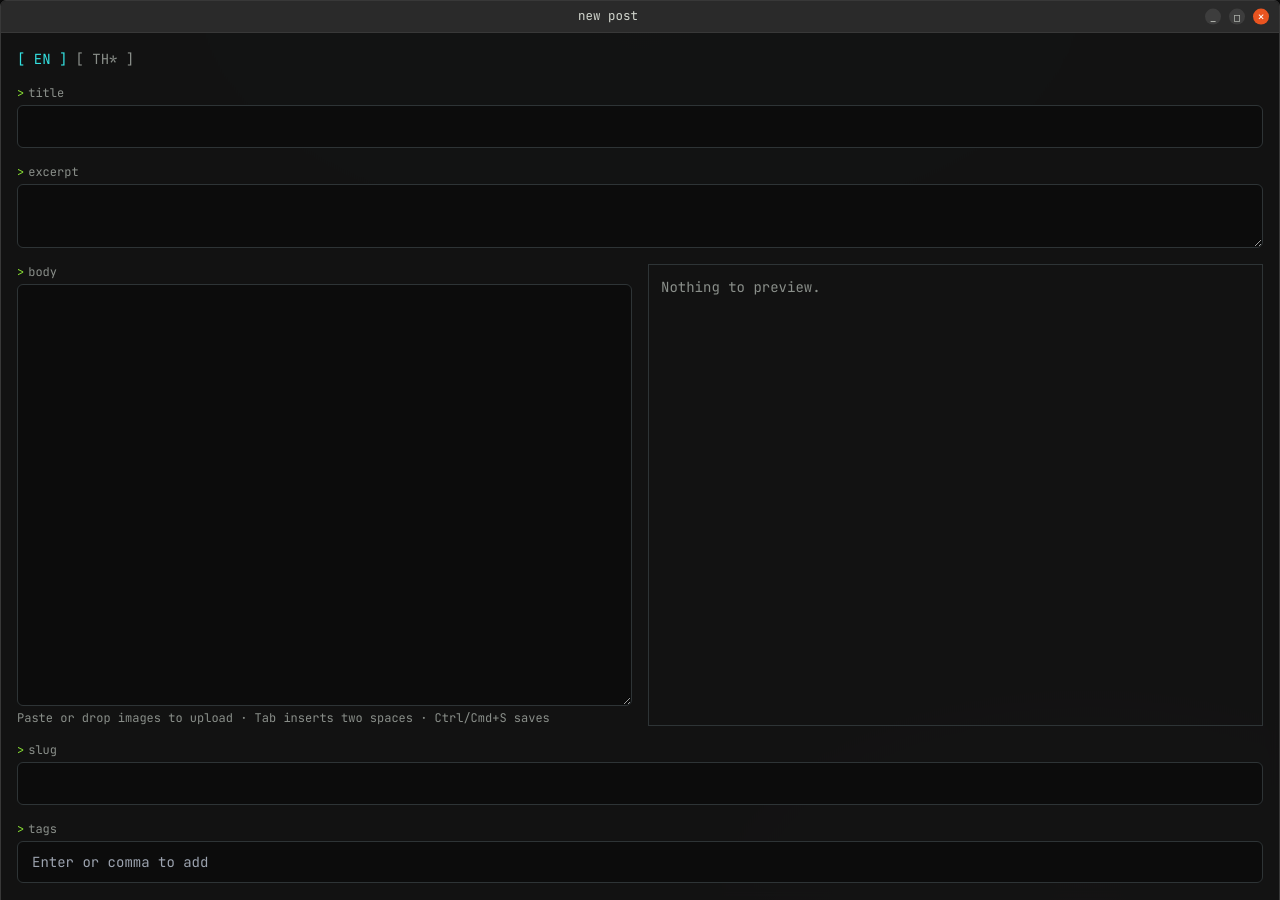
Test: tab inserts two spaces
This screenshot has width=1280, height=900.
Step 1. Type "a" into the text box labelled "body" → point(324, 495), box [17,284,632,706]
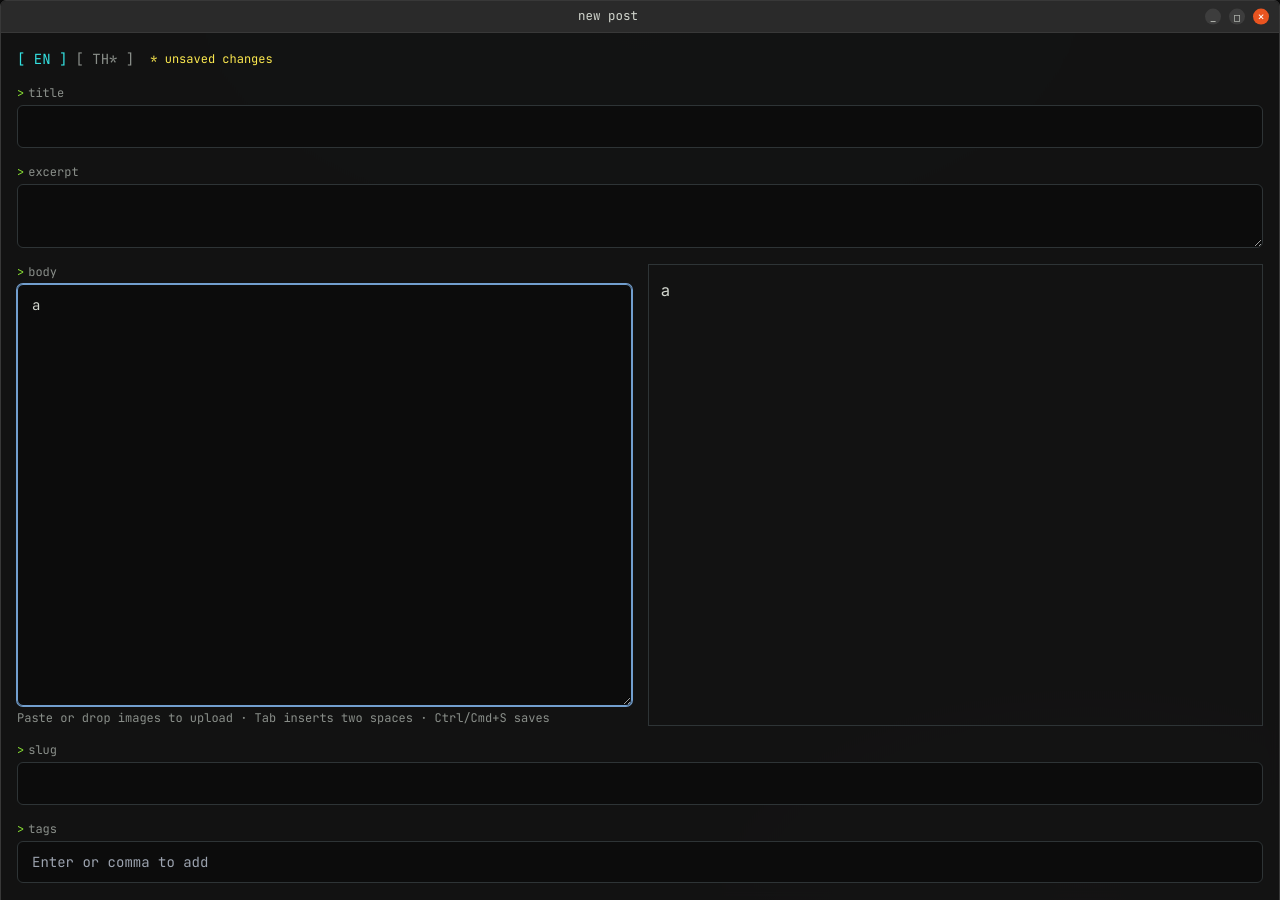
Step 2. Press Tab
Step 3. Type "b" into the text box labelled "body" → point(324, 495), box [17,284,632,706]
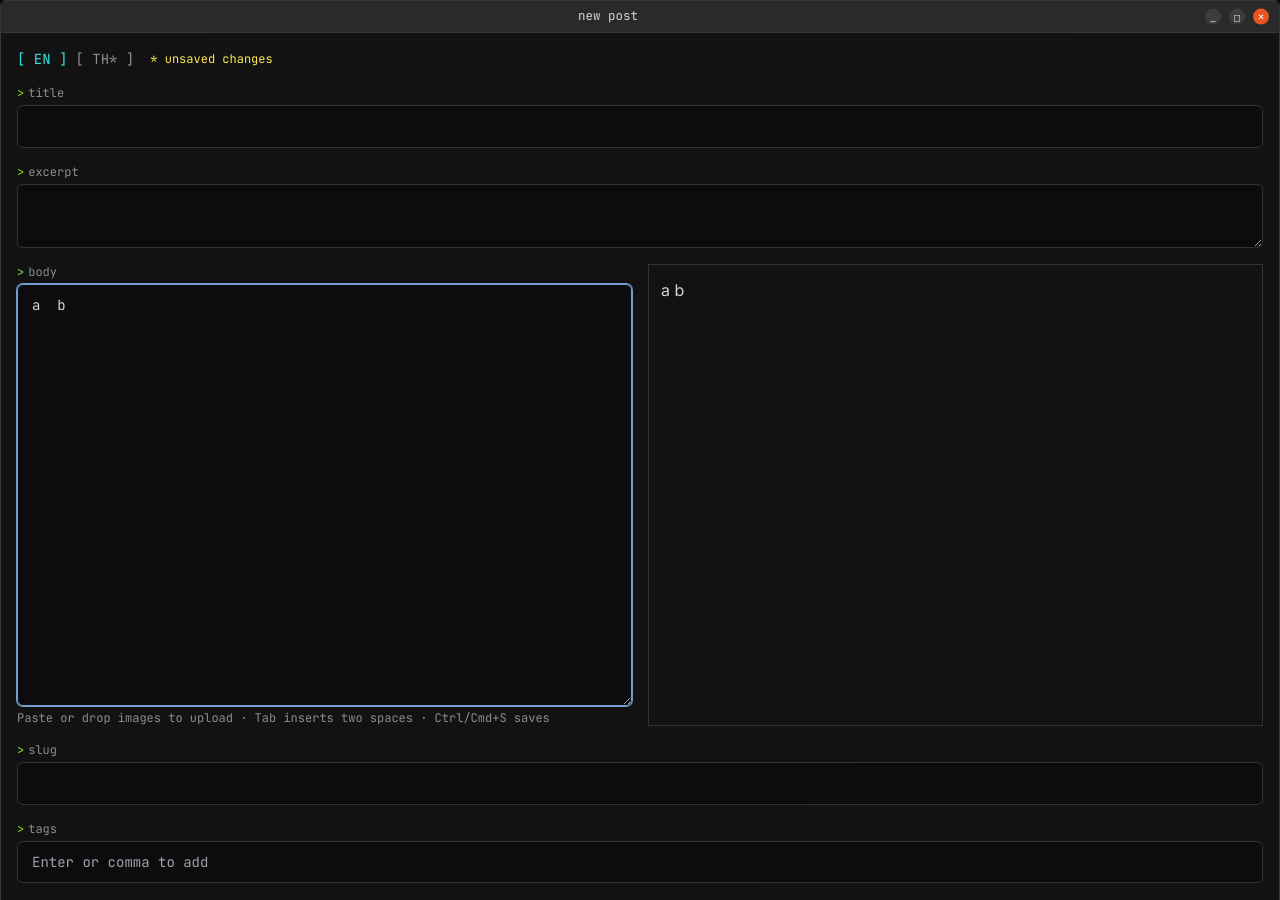
expect the text box labelled "body" holds "a  b": met, box [17,284,632,706]
